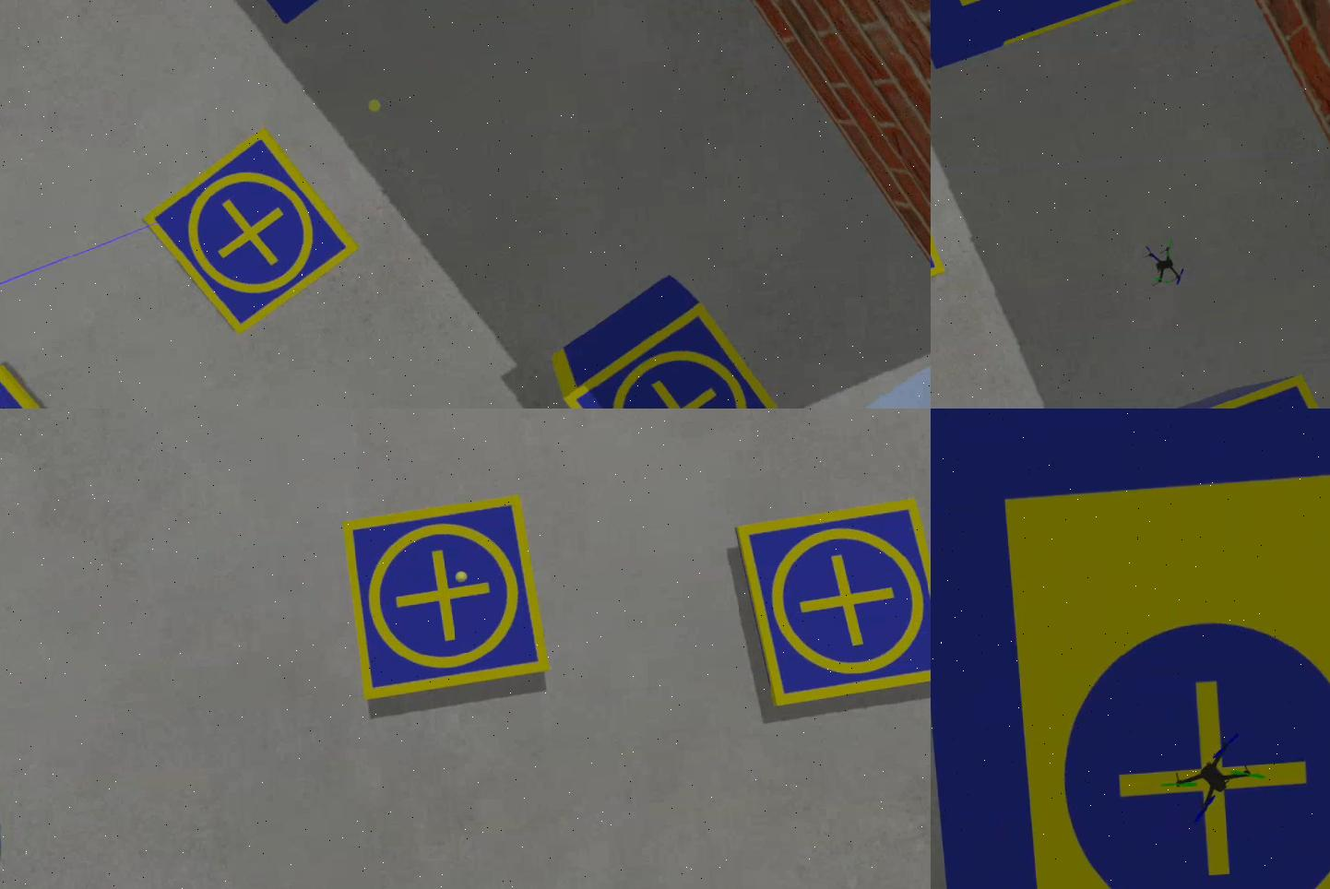large_base: (932, 409, 1330, 889), (932, 1, 1207, 68)
small_base: (144, 128, 364, 344), (343, 496, 552, 708), (733, 496, 932, 713), (564, 302, 796, 409), (1, 362, 101, 409)
